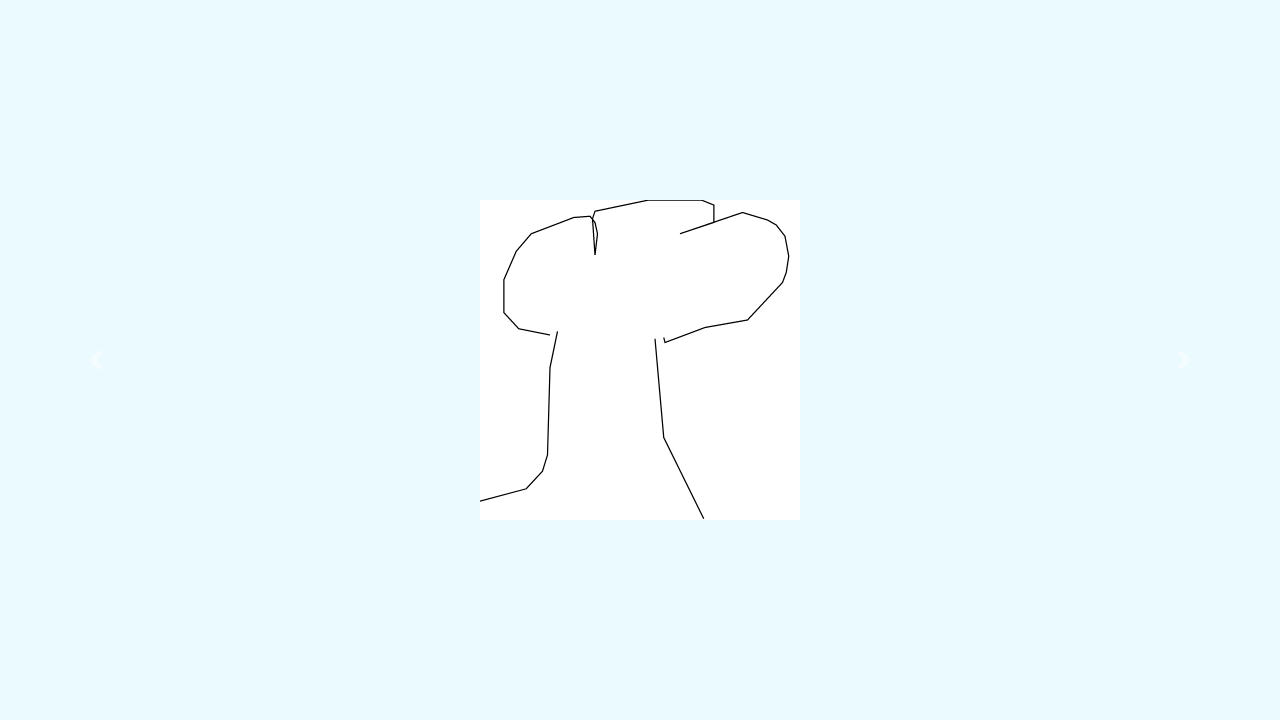tree: (471, 194, 797, 527)
